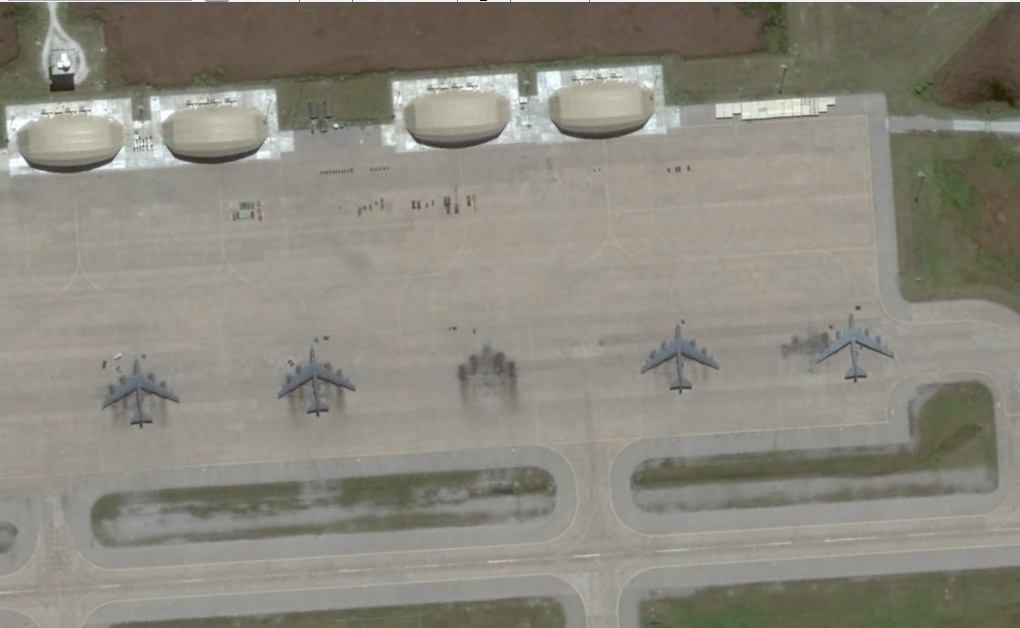B52: (815, 313, 895, 384), (276, 347, 357, 417), (101, 357, 180, 428), (640, 324, 720, 394)
